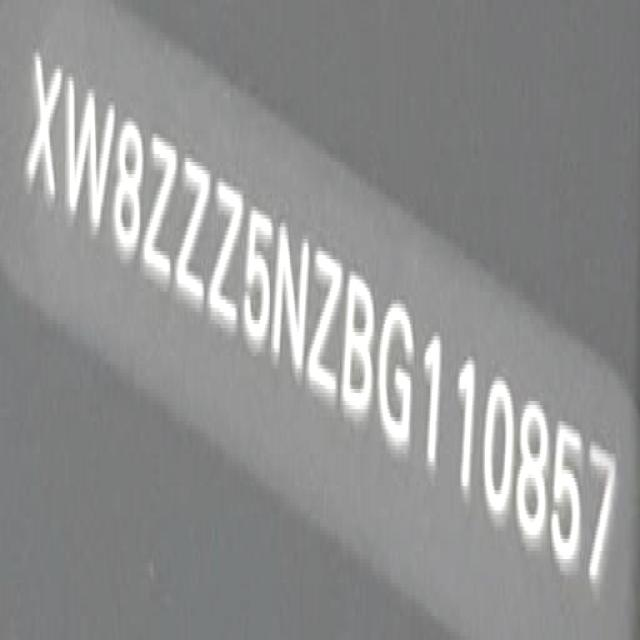0: (480, 372, 516, 536)
1: (421, 317, 446, 481), (456, 345, 476, 500)
5: (550, 408, 586, 585), (243, 204, 273, 360)
7: (588, 426, 620, 598)
8: (516, 384, 550, 557), (113, 107, 143, 264)
B: (342, 272, 376, 436)
G: (376, 290, 415, 454)
N: (272, 215, 309, 390)
W: (62, 52, 111, 238)
X: (27, 44, 59, 222)
Z: (308, 242, 345, 409), (142, 129, 178, 290), (178, 158, 211, 314), (209, 182, 243, 330)
